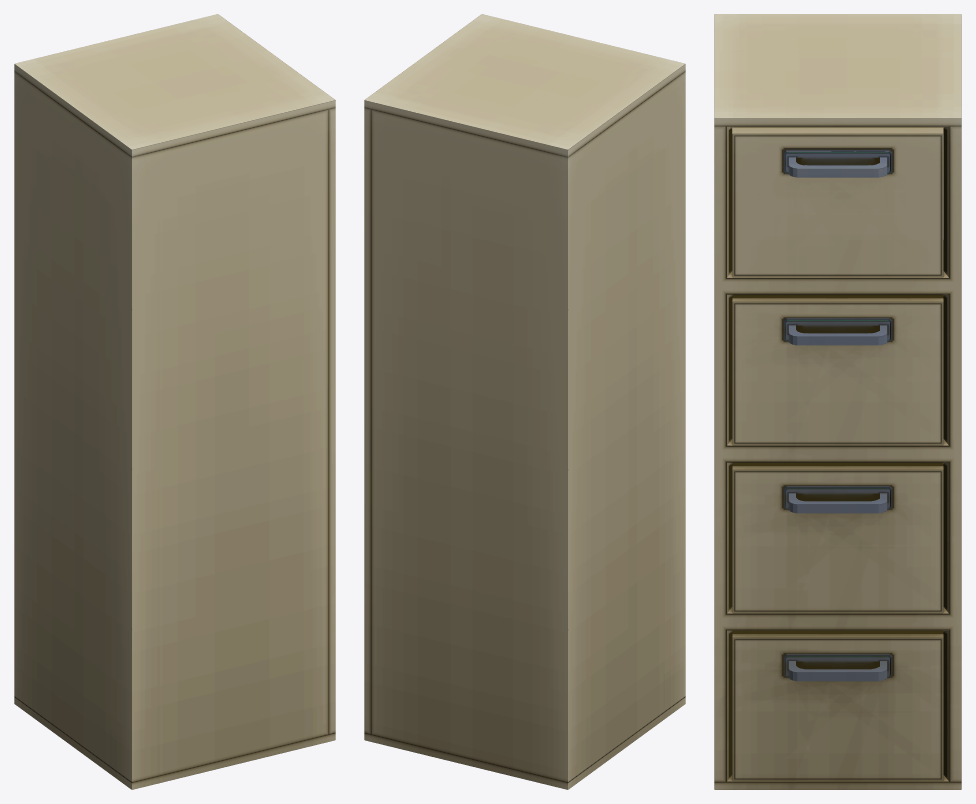
The model's file is Drawer.obj.
3 views of the same model, side by side, from view 1: azimuth 30°, elevation 25°; view 2: azimuth 150°, elevation 25°; view 3: azimuth 270°, elevation 25° (orthographic). The views are drawn at different scales.
Parts seen in each view (by area): view 1: mesh; view 2: mesh; view 3: mesh.
Boxes of the visible parts, x1,y1,x2,y2 form: mesh: [14, 14, 335, 789]; mesh: [364, 14, 685, 789]; mesh: [714, 14, 961, 789].
Bounding box in the file's own units: 0.5034 × 1.31 × 0.4375.
1 material, 1 textured.
